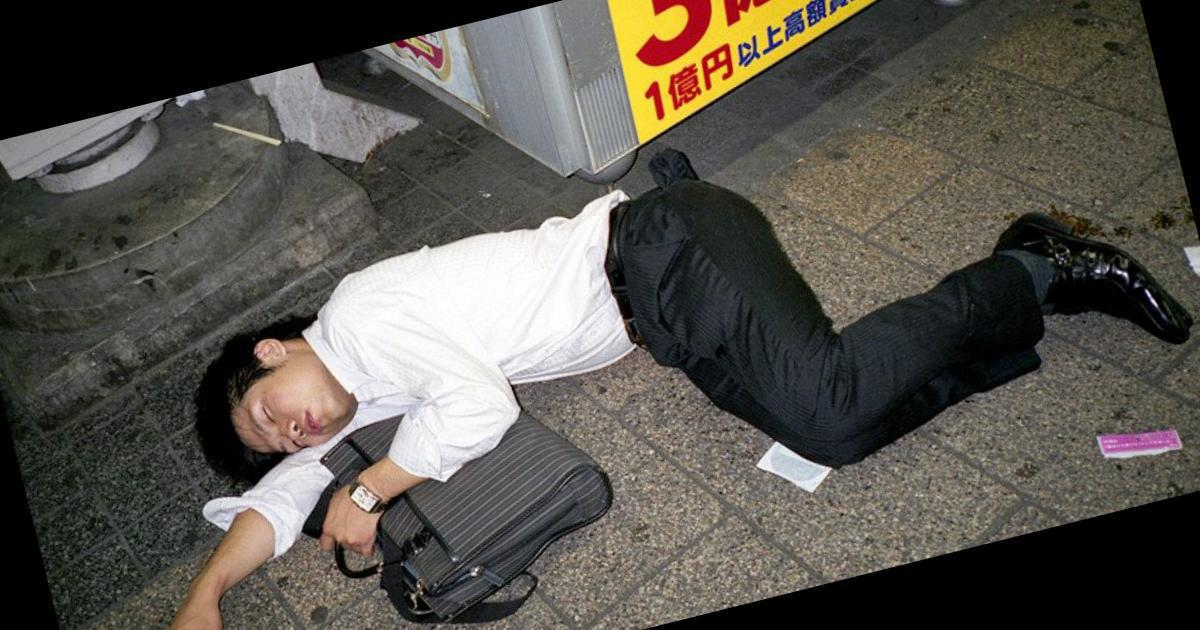Drunk: (232, 389, 343, 453)
